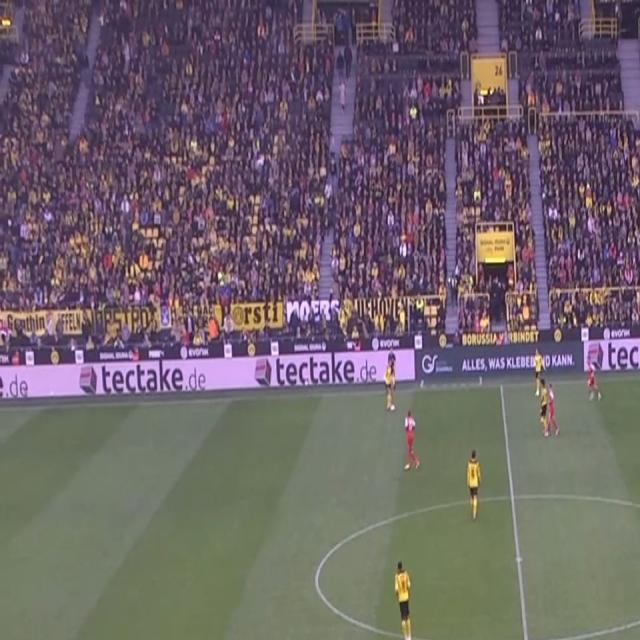ball: (390, 402, 396, 413)
